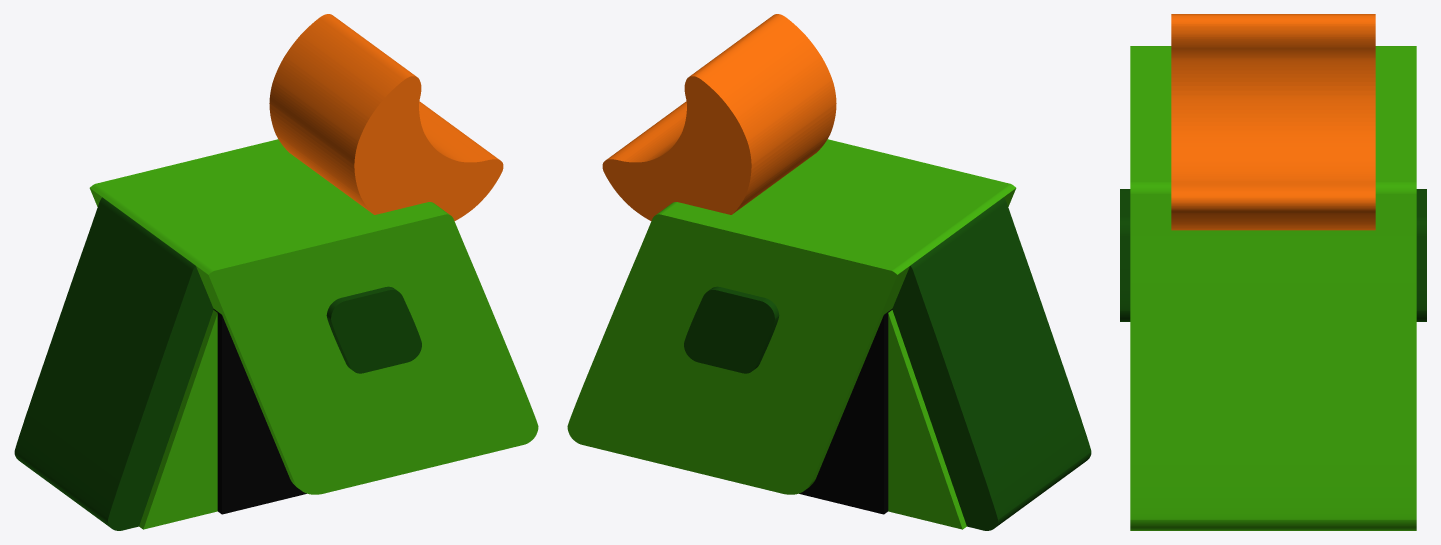
3 renders of one model, left to right at view 1: azimuth 30°, elevation 25°; view 2: azimuth 150°, elevation 25°; view 3: azimuth 270°, elevation 25°, orthographic. The views are drawn at different scales.
Visible parts, largest first — view 1: U+26FA_layer04_obj00, U+26FA_layer01_obj00, U+26FA_layer00_obj00, U+26FA_layer03_obj00, U+26FA_layer02_obj00, U+26FA_layer05_obj00; view 2: U+26FA_layer04_obj00, U+26FA_layer01_obj00, U+26FA_layer00_obj00, U+26FA_layer03_obj00, U+26FA_layer02_obj00, U+26FA_layer05_obj00; view 3: U+26FA_layer04_obj00, U+26FA_layer00_obj00, U+26FA_layer05_obj00.
Part boxes in pixels (x1,y1,x2,y2): U+26FA_layer04_obj00: [89, 139, 538, 494]; U+26FA_layer01_obj00: [14, 197, 213, 530]; U+26FA_layer00_obj00: [269, 14, 503, 220]; U+26FA_layer03_obj00: [213, 309, 306, 514]; U+26FA_layer02_obj00: [139, 310, 217, 529]; U+26FA_layer05_obj00: [326, 286, 421, 373]; U+26FA_layer04_obj00: [567, 139, 1016, 494]; U+26FA_layer01_obj00: [892, 197, 1091, 530]; U+26FA_layer00_obj00: [602, 14, 836, 220]; U+26FA_layer03_obj00: [799, 309, 892, 514]; U+26FA_layer02_obj00: [888, 310, 966, 529]; U+26FA_layer05_obj00: [684, 286, 779, 373]; U+26FA_layer04_obj00: [1130, 46, 1416, 530]; U+26FA_layer00_obj00: [1171, 14, 1375, 230]; U+26FA_layer05_obj00: [1120, 189, 1426, 321].
Bounding box in the file's own units: 0.5681 × 0.4932 × 0.3.
